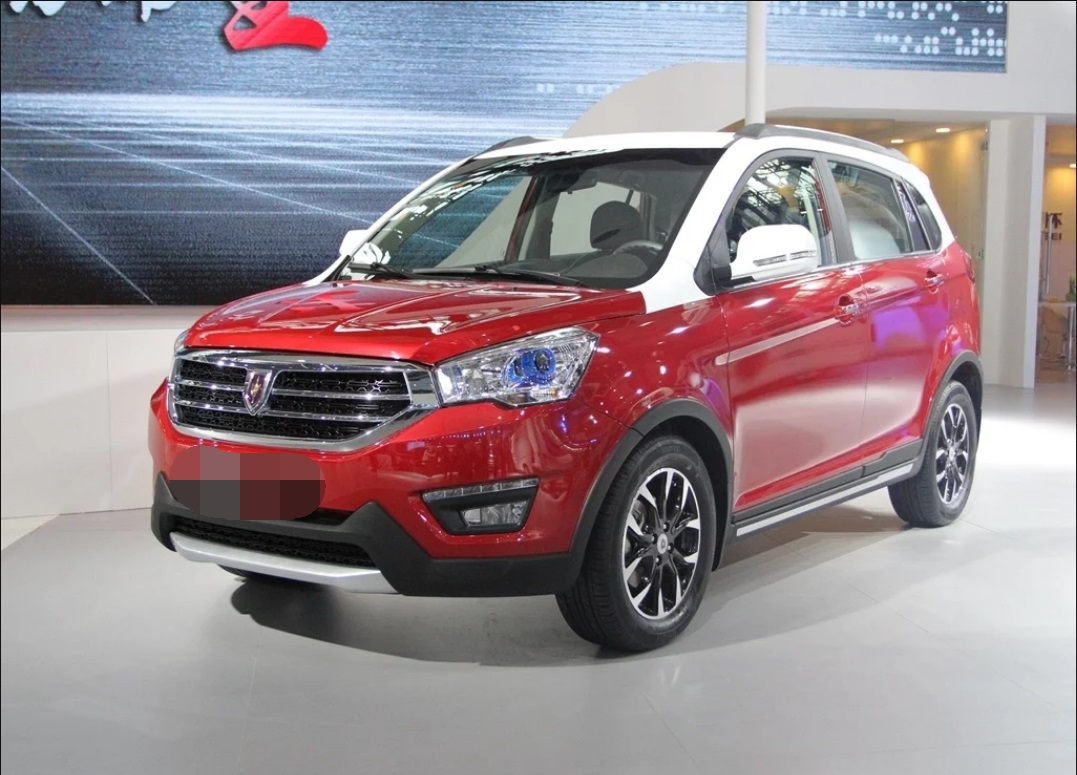SUV: (143, 120, 987, 655)
